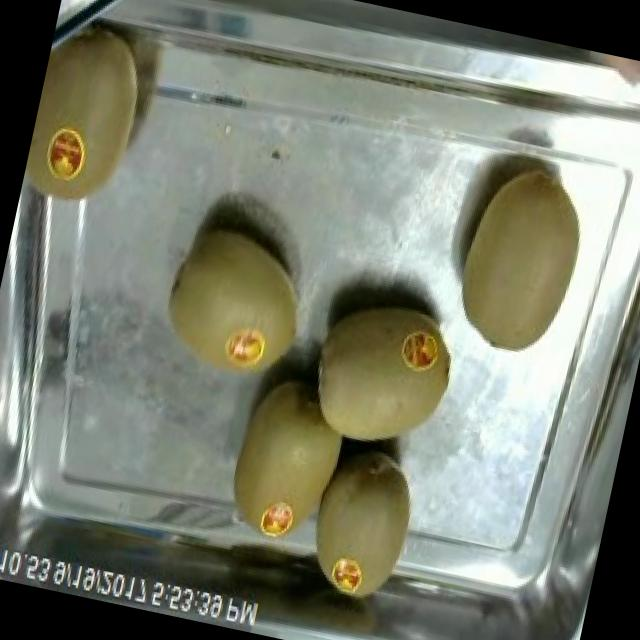Fruit: (437, 150, 606, 368), (145, 206, 323, 404), (294, 278, 472, 466), (208, 360, 366, 562), (20, 8, 169, 215), (298, 430, 435, 618)
